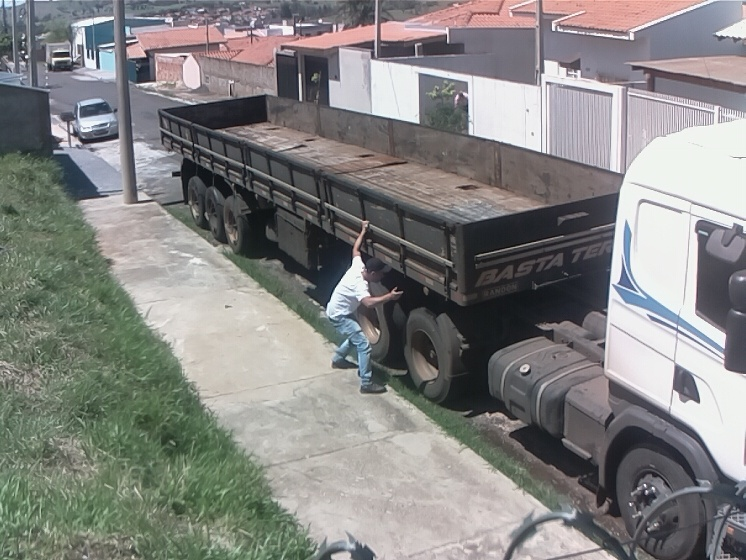person: (325, 218, 404, 396)
